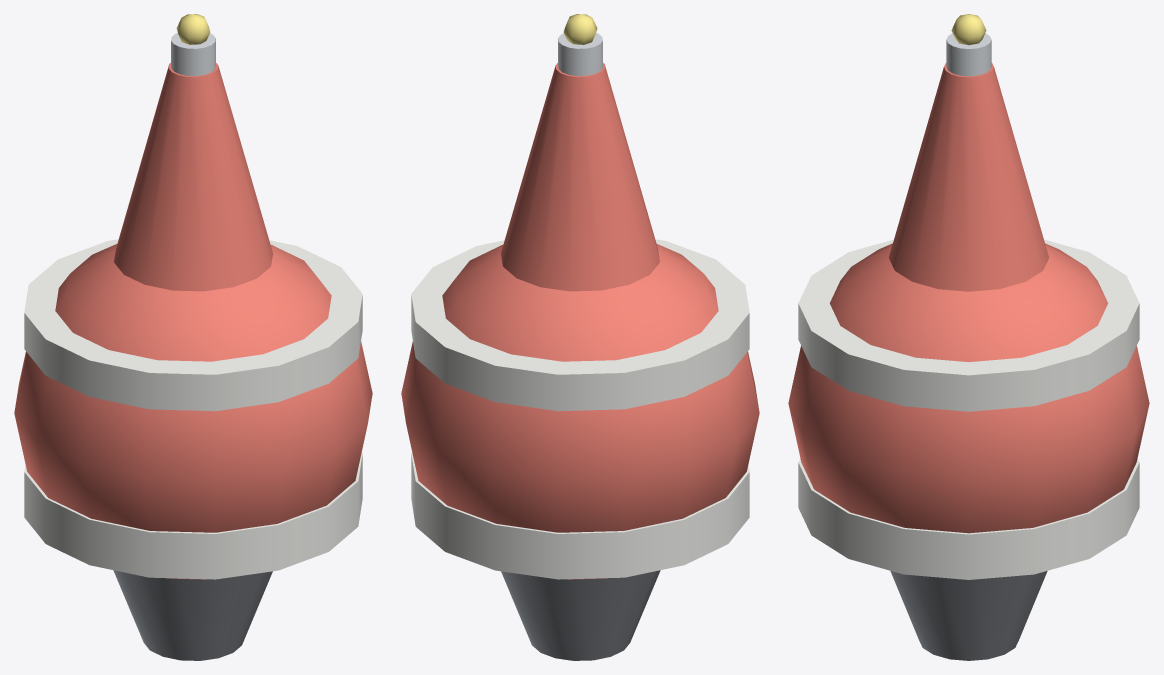
File: Buoy.fbx
The picture shows the model from 3 angles, left to right: view 1: azimuth 30°, elevation 25°; view 2: azimuth 150°, elevation 25°; view 3: azimuth 270°, elevation 25°; orthographic projection.
Parts seen in each view (by area): view 1: LOD0; view 2: LOD0; view 3: LOD0.
Part boxes in pixels (x1,y1,x2,y2): LOD0: [14, 14, 372, 660]; LOD0: [401, 14, 759, 660]; LOD0: [788, 14, 1149, 660].
Size of what is drawn, in the model's own units: 72 by 138 by 72.
